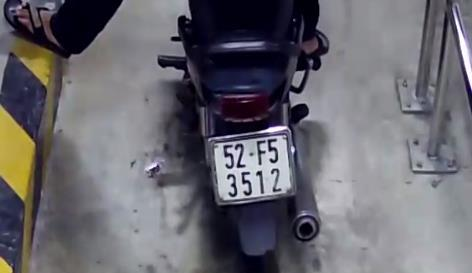lisence: (204, 127, 297, 207)
